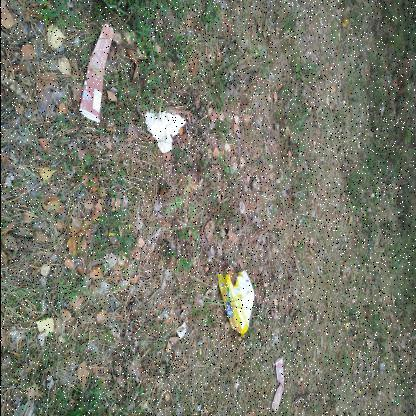cardboard: (294, 77, 392, 113), (5, 270, 60, 284)
paper: (262, 144, 306, 186)
plastic: (78, 217, 146, 254)
